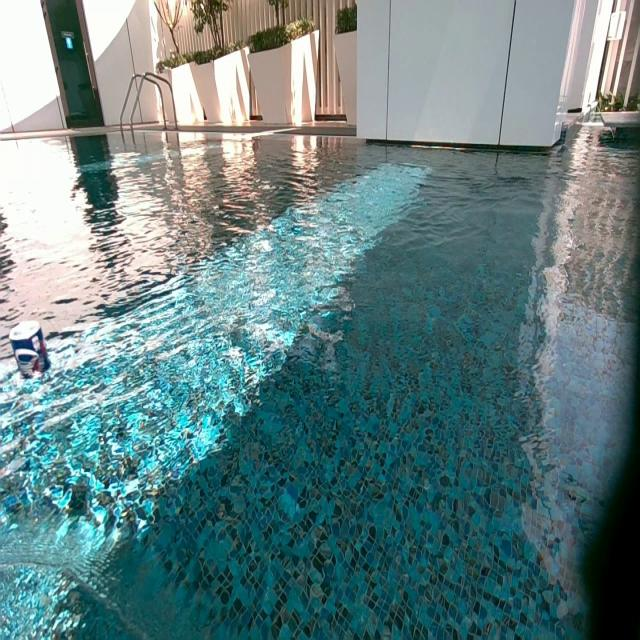Cans: (9, 318, 47, 367)
